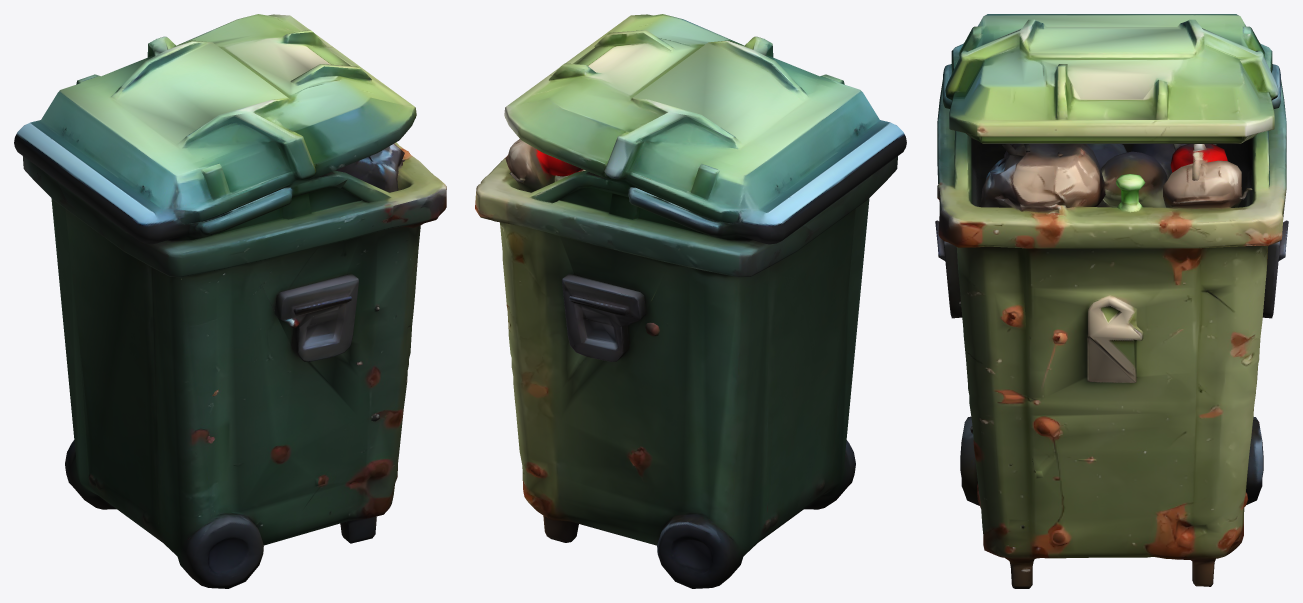
Rendered from dumpster.glb.
3 views of the same model, side by side, from view 1: azimuth 30°, elevation 25°; view 2: azimuth 150°, elevation 25°; view 3: azimuth 270°, elevation 25° (orthographic). The views are drawn at different scales.
Visible parts, largest first — view 1: tripo_node_927b00ab-379f-4b77-b91d-860523466538; view 2: tripo_node_927b00ab-379f-4b77-b91d-860523466538; view 3: tripo_node_927b00ab-379f-4b77-b91d-860523466538.
Boxes of the visible parts, left/top/right/bottom form: tripo_node_927b00ab-379f-4b77-b91d-860523466538: left=14, top=14, right=446, bottom=588; tripo_node_927b00ab-379f-4b77-b91d-860523466538: left=475, top=14, right=906, bottom=588; tripo_node_927b00ab-379f-4b77-b91d-860523466538: left=935, top=14, right=1288, bottom=588.
Bounding box in the file's own units: 0.6947 × 1 × 0.6321.
1 material, 1 textured.
